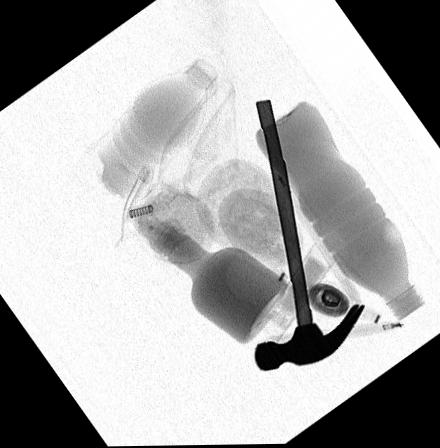Hammer: (253, 98, 366, 371)
